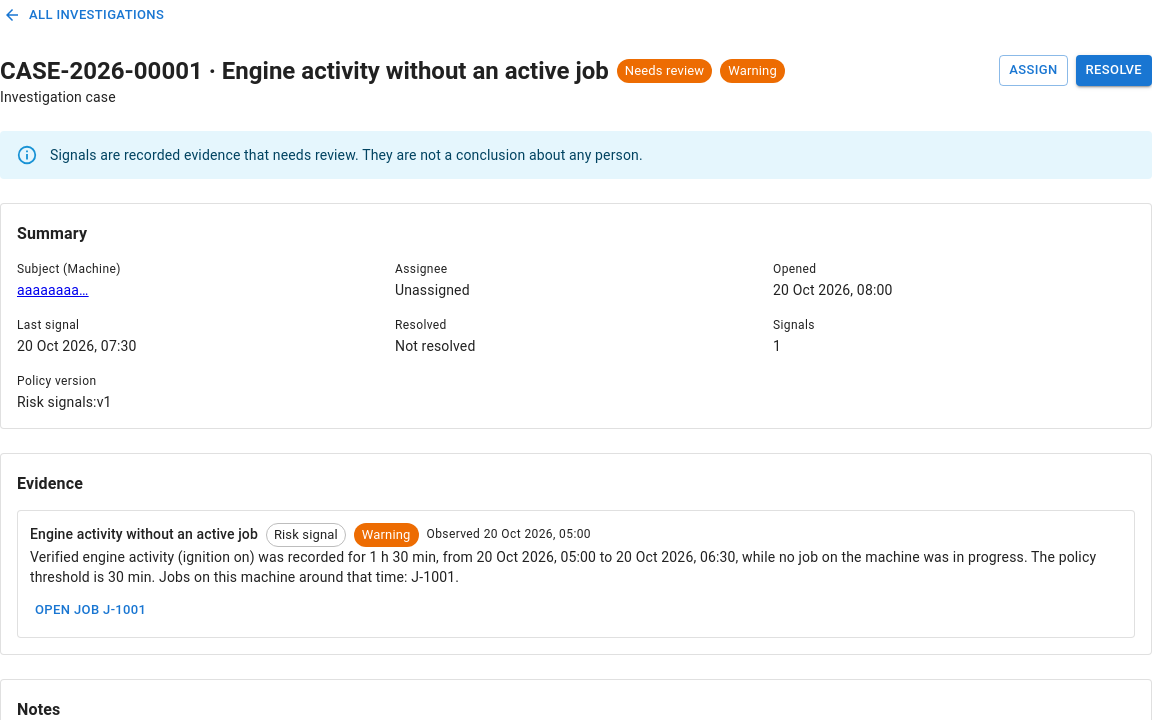
Test: CaseDetailPage › shows the refusal when the reviewer is part of the evidence
Click the button "Resolve" at point(1114, 70), box [1076, 55, 1151, 86]
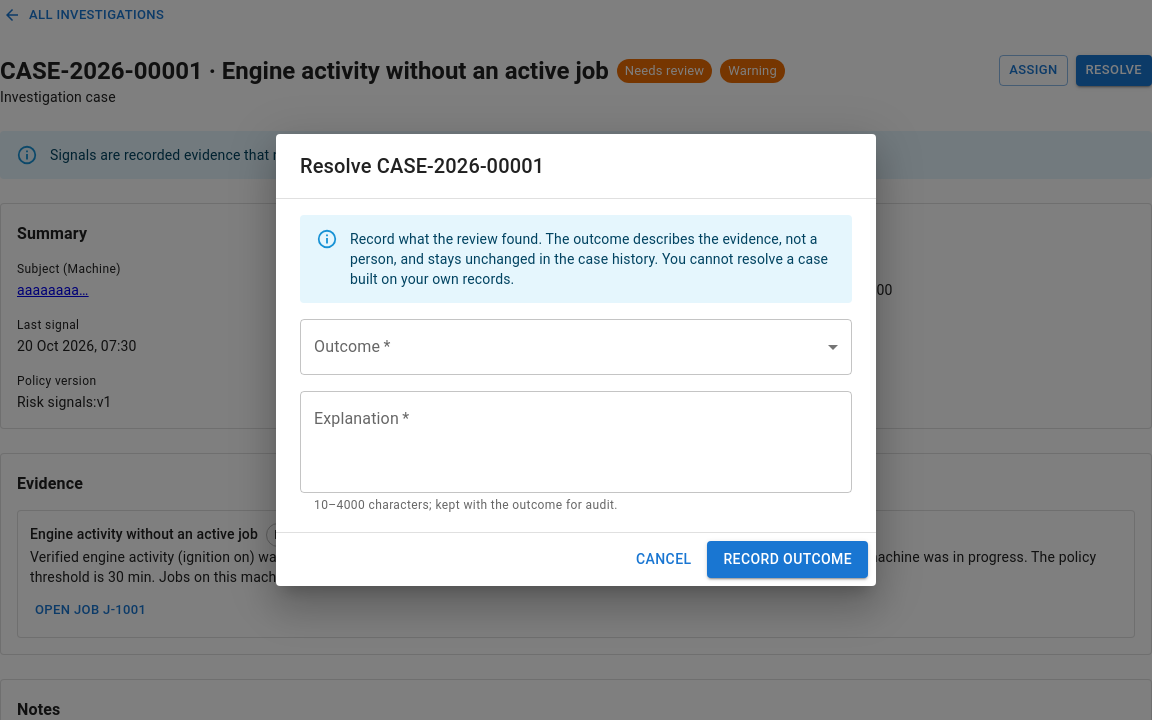
Click the dropdown named "Outcome" at point(576, 347), box [300, 319, 852, 375]
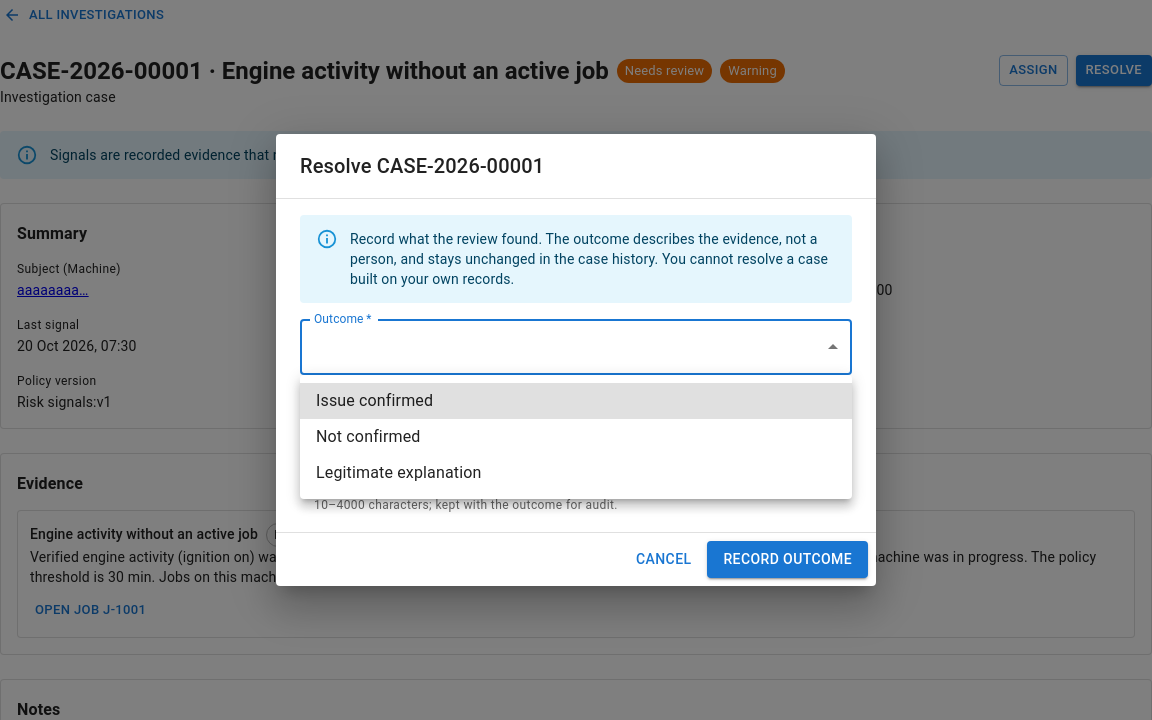
Click the option "Issue confirmed" at point(375, 400), box [300, 383, 852, 419]
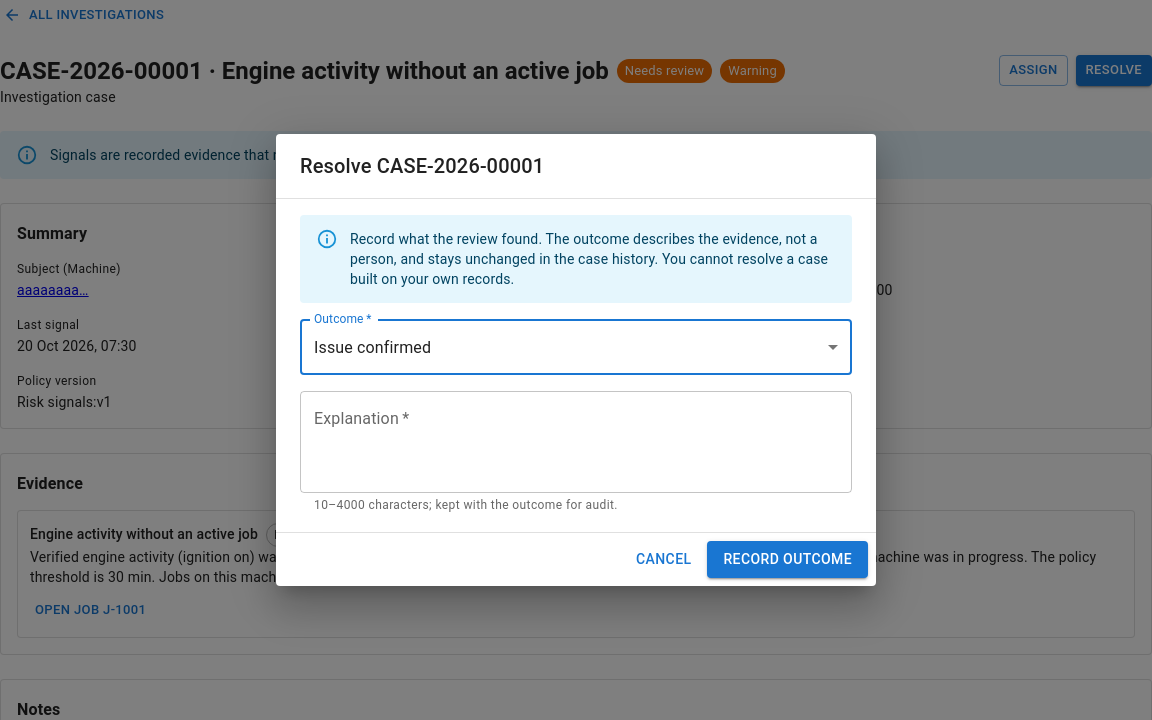
Type "Readings do not match" into the text box labelled "Explanation *" at point(576, 442), box [314, 408, 838, 477]
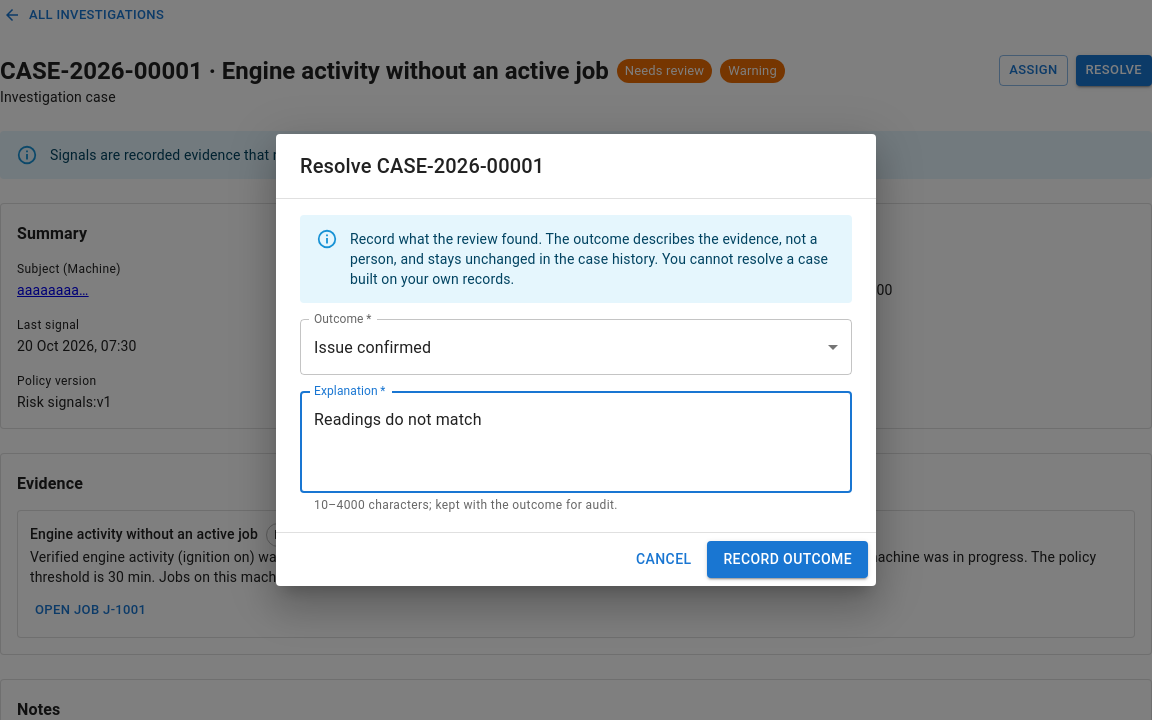
Click the button "Record outcome" at point(788, 559), box [708, 541, 868, 578]
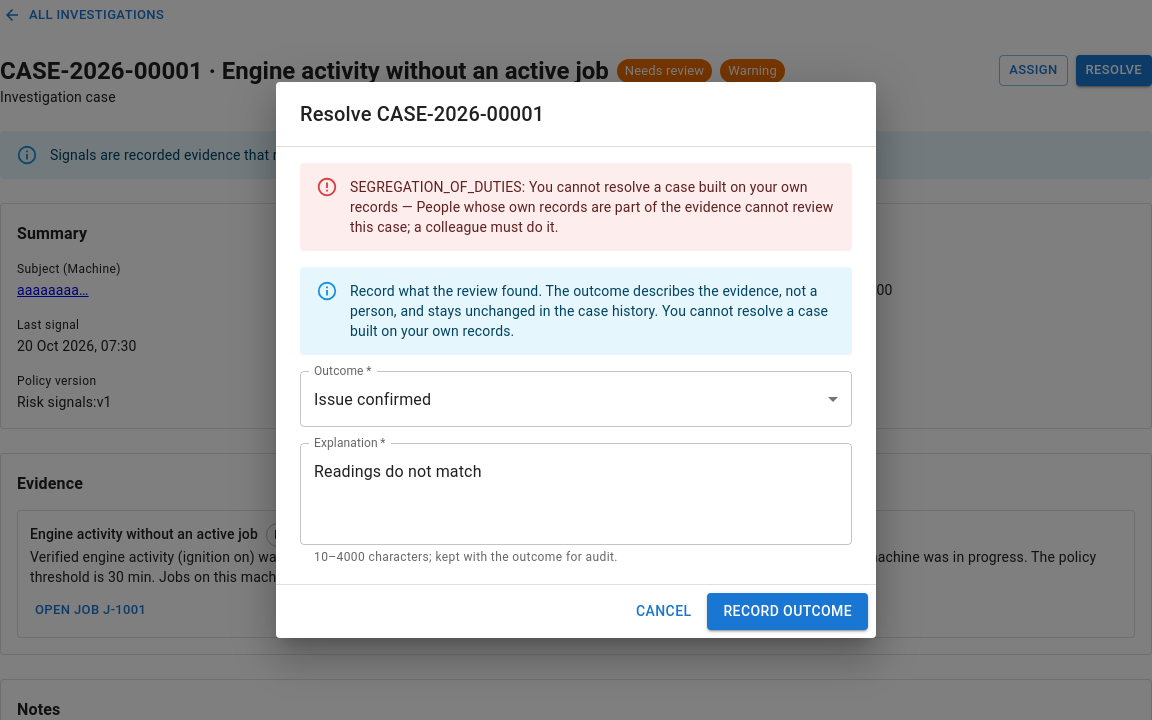
Check: the text "SEGREGATION_OF_DUTIES: You cannot resolve a case built on your own" is shown, box [350, 179, 833, 235]
